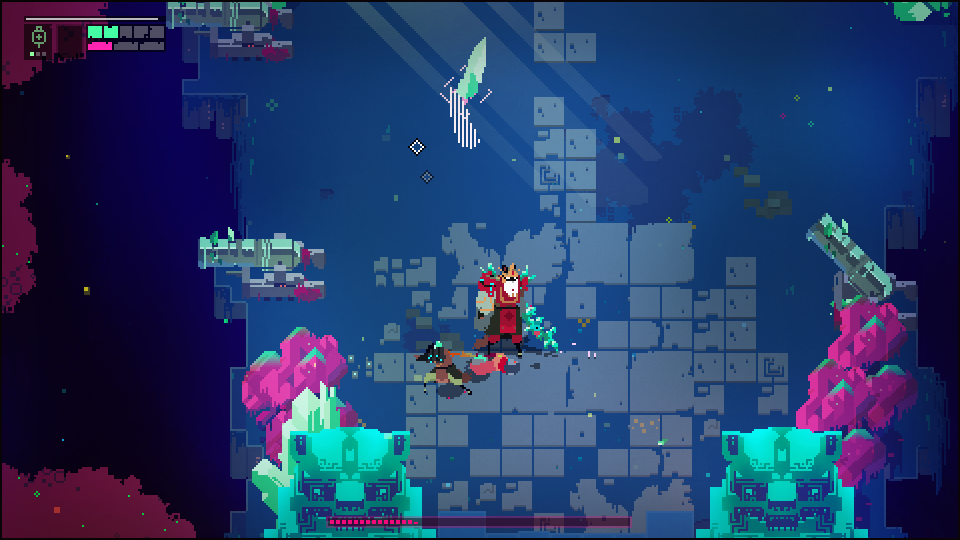hanged_crys: (453, 33, 485, 98), (447, 87, 479, 152)
hanged_man: (474, 260, 561, 358)
player: (460, 351, 520, 385)
